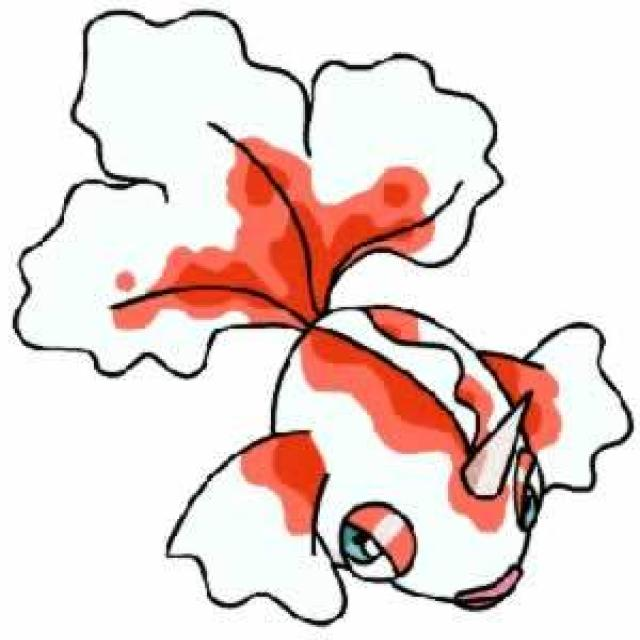Goldeen: (108, 61, 550, 616)
